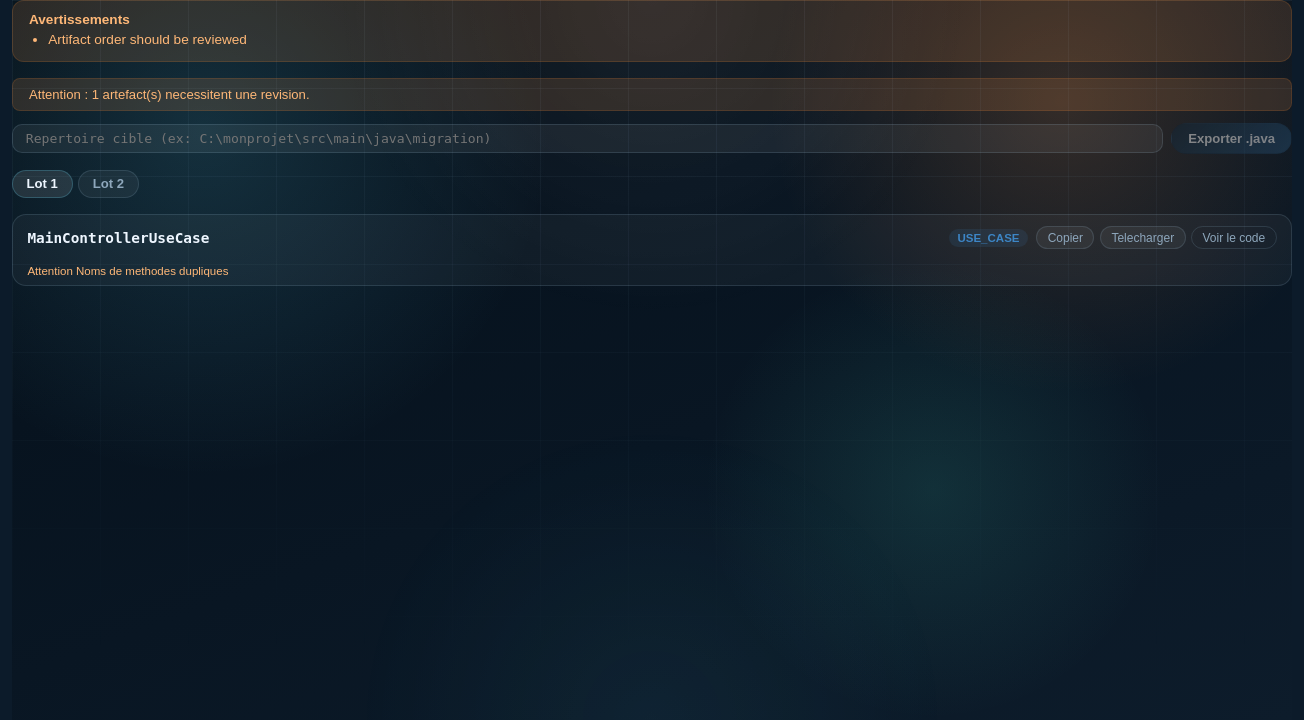
Test case: ArtifactsViewComponent › should allow copying and downloading a single artifact
The width and height of the screenshot is (1304, 720).
Click the button with class "artifact-action-btn" showing "Copier" at (1065, 238), box [1036, 226, 1094, 249]
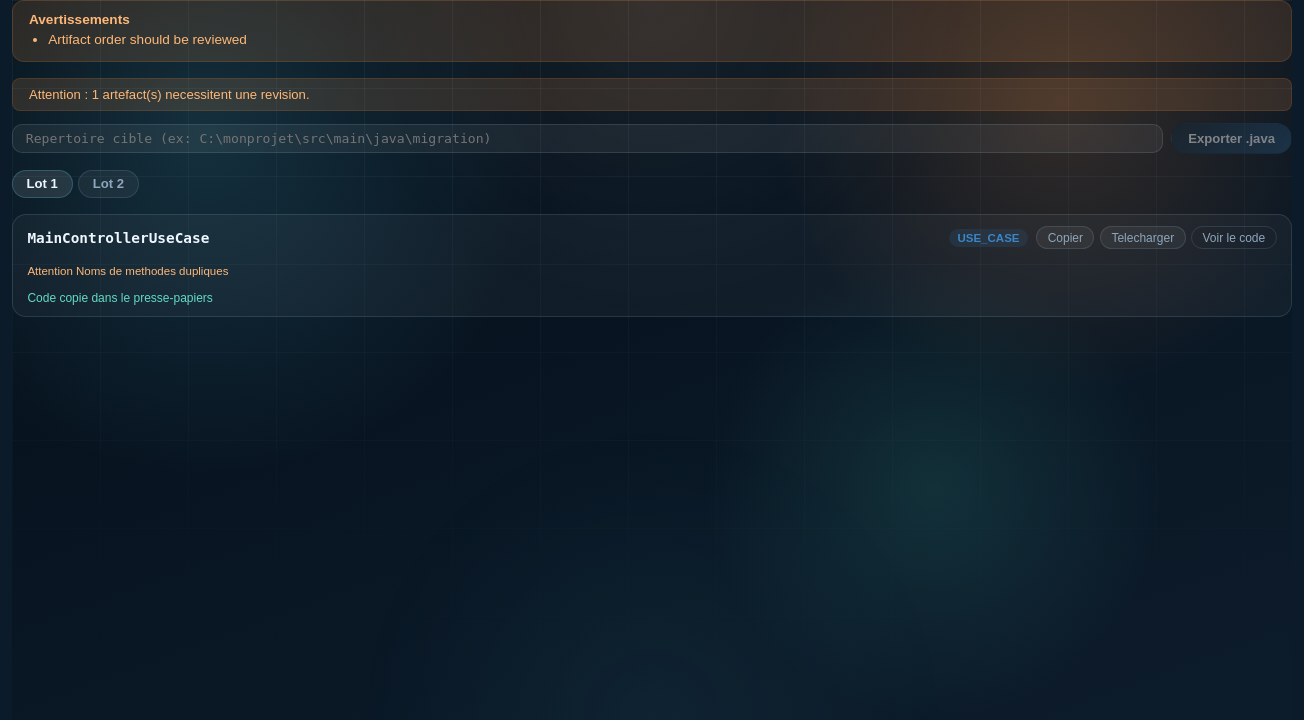
Now the text "Code copie dans le presse-papiers" is shown, box [27, 291, 213, 305]
Click the button with class "artifact-action-btn" showing "Telecharger" at (1143, 238), box [1100, 226, 1186, 249]
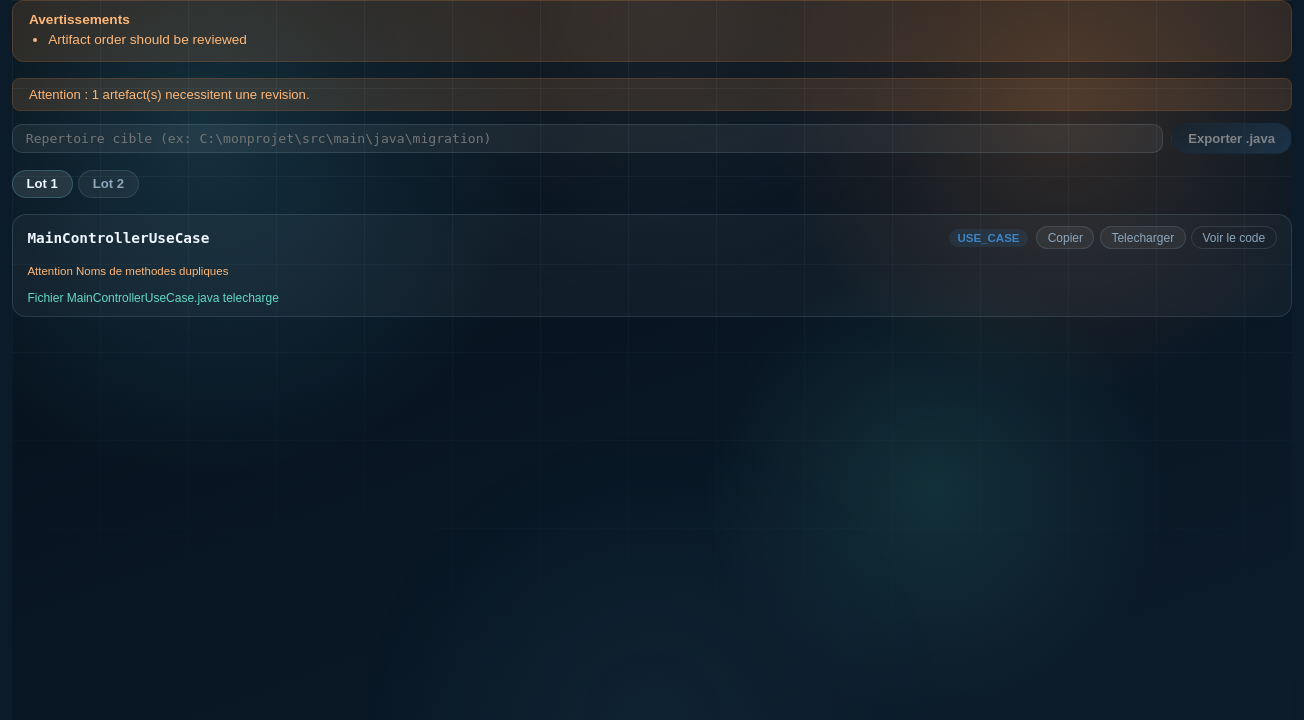
Now the text "Fichier MainControllerUseCase.java telecharge" is shown, box [27, 291, 279, 305]
